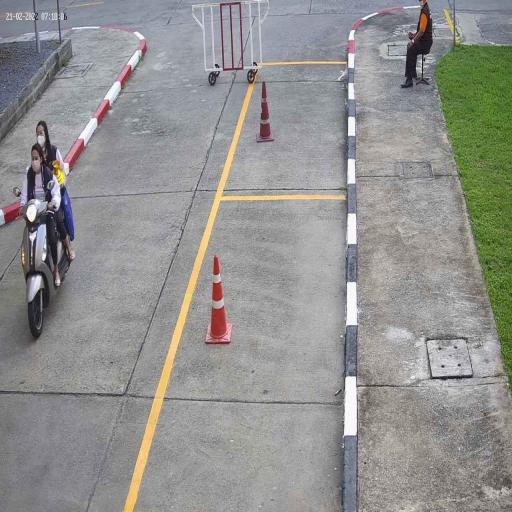motorcycle: (18, 197, 56, 345)
